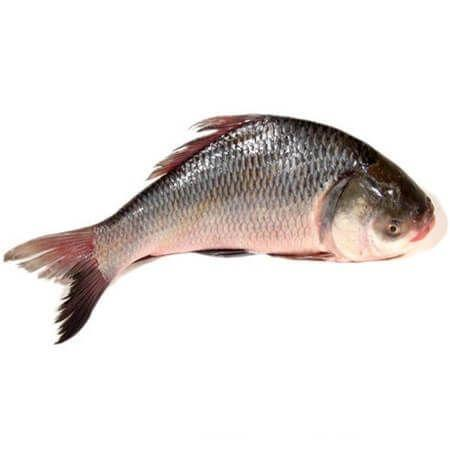Indian Carp: (4, 111, 430, 344)
